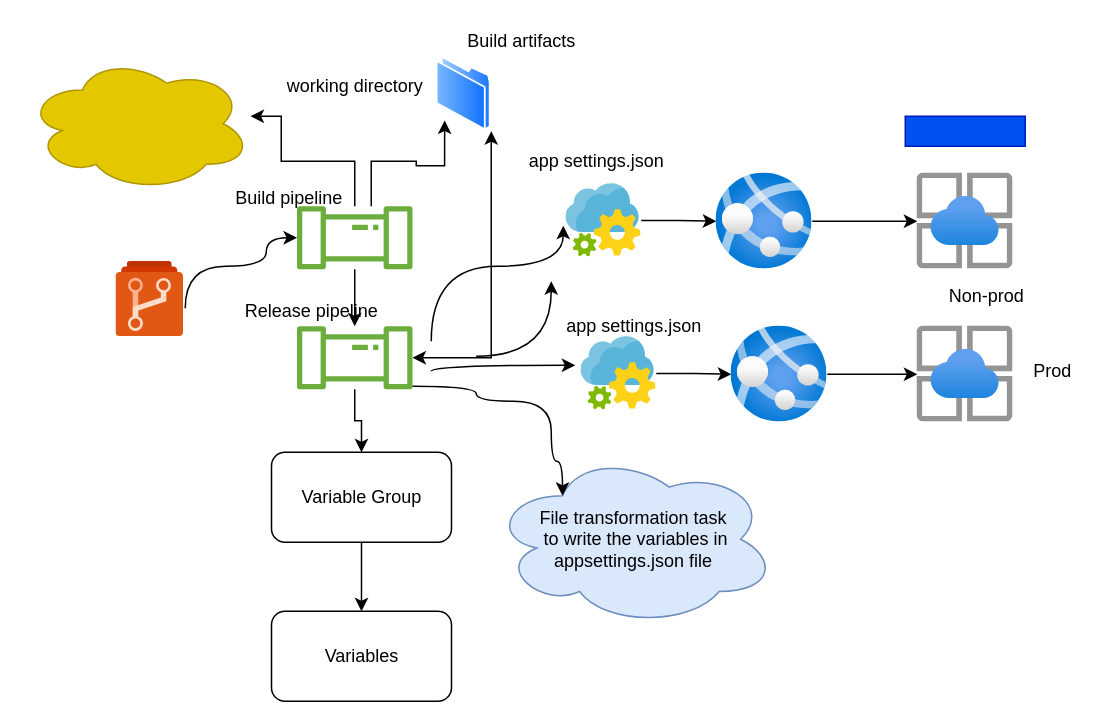
The diagram is 1109 pixels wide and 728 high, and some of its shapes have lost their labels. The box of each missing label's shape, as (x1, y1, x2, y2) in pixels:
enable CI on trigger: (25, 55, 251, 191)
Staging env: (904, 115, 1025, 146)
